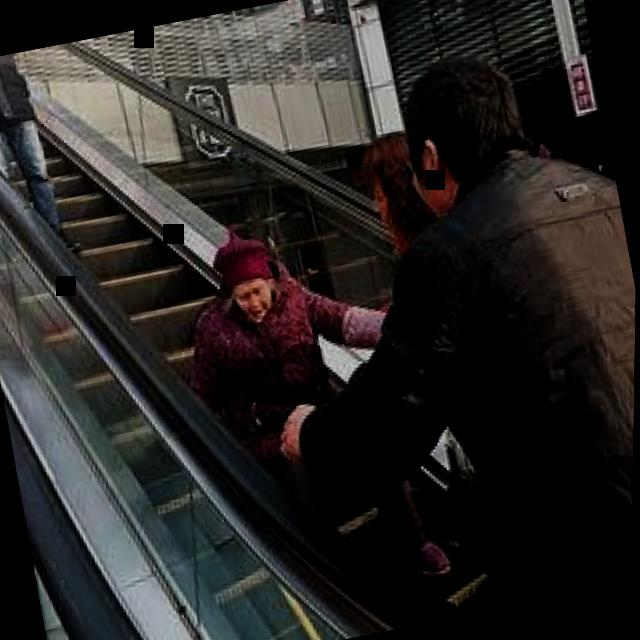Fall-Detected: (149, 202, 408, 538)
